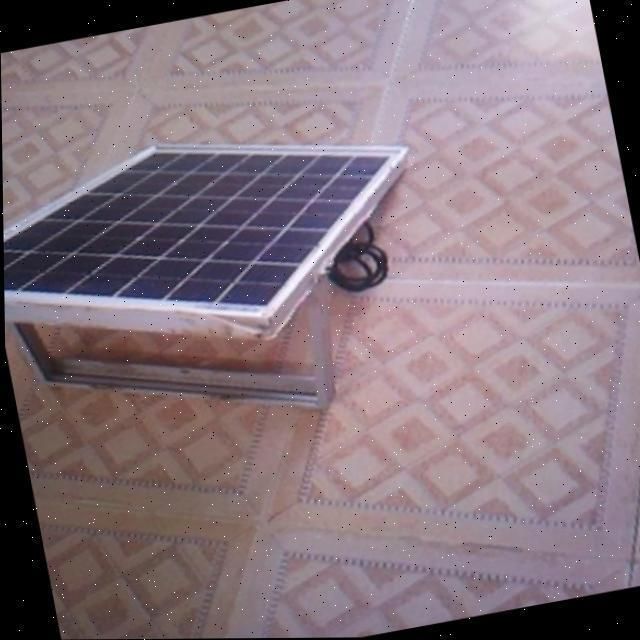Normal Solar Panel: (1, 99, 438, 384)
